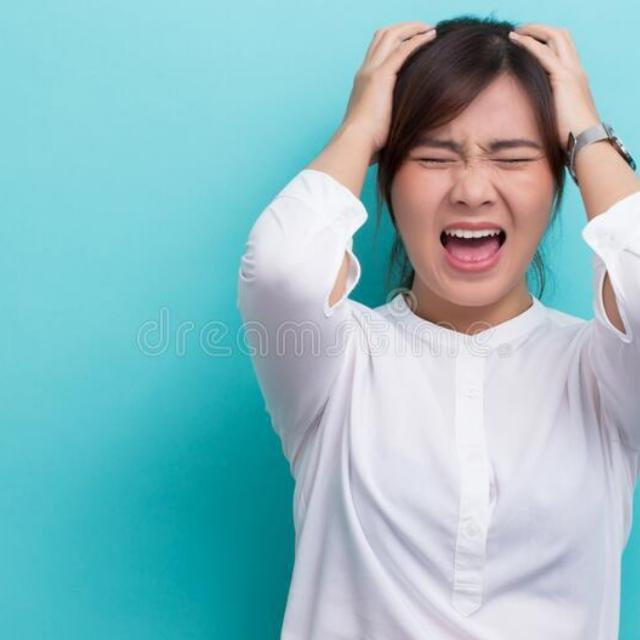Angry: (330, 53, 607, 376)
